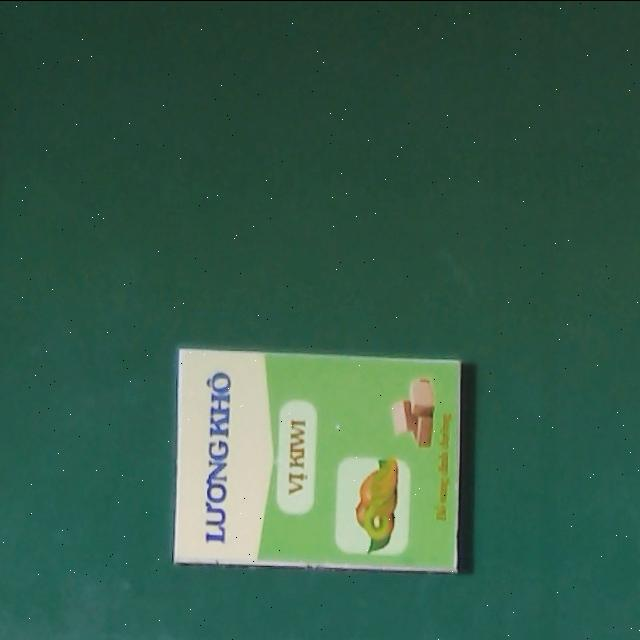kiwi: (174, 349, 462, 573)
